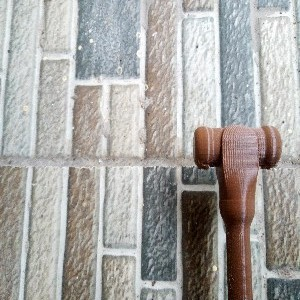palu: (192, 124, 283, 300)
